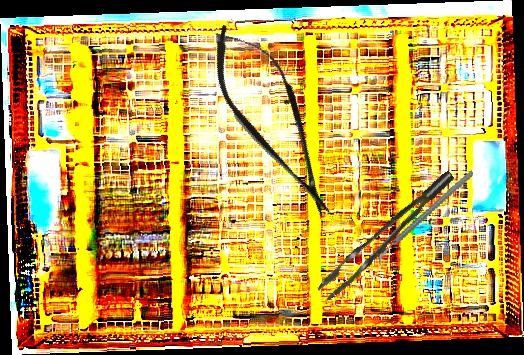Chopper: (359, 170, 492, 266)
Micro Scissor: (193, 10, 356, 232)
Tissue Forceps: (306, 170, 469, 302)
